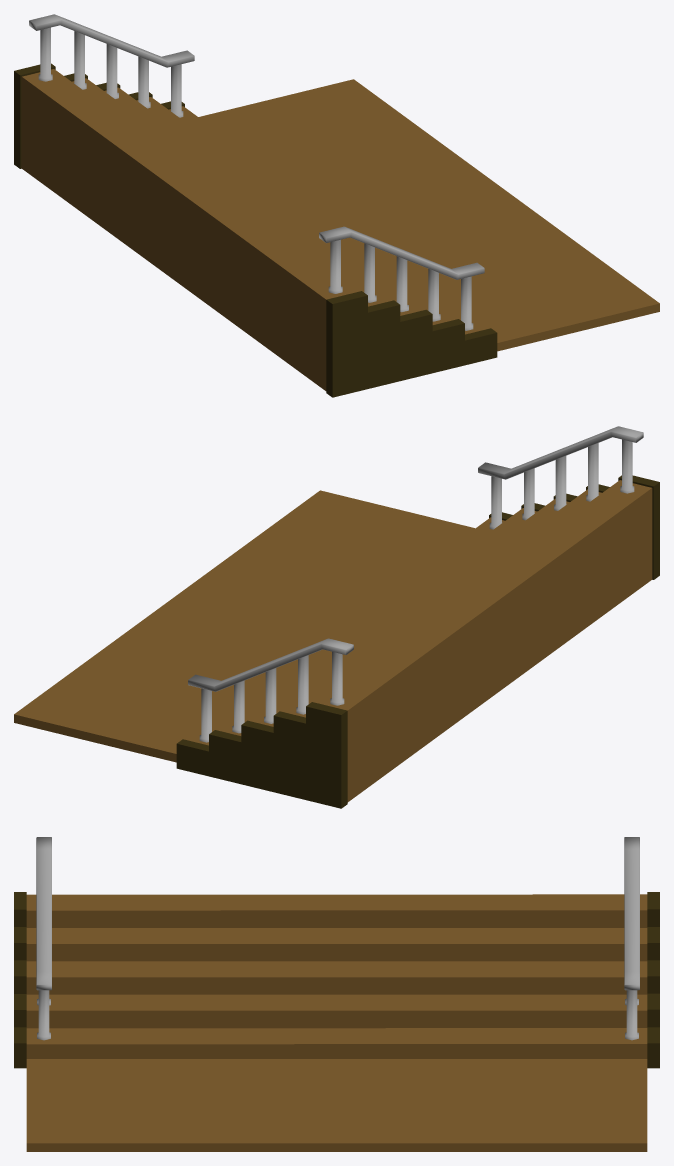
Rendered from Stair.fbx.
3 renders of one model, top to bottom at view 1: azimuth 30°, elevation 25°; view 2: azimuth 150°, elevation 25°; view 3: azimuth 270°, elevation 25°, orthographic.
Visible parts, largest first — view 1: StraightStair001; view 2: StraightStair001; view 3: StraightStair001.
Boxes of the visible parts, <box> form: StraightStair001: <box>14,14,659,397</box>; StraightStair001: <box>14,426,659,808</box>; StraightStair001: <box>14,837,659,1151</box>.
Bounding box in the file's own units: 223 × 95.86 × 368.
Materials: 1 (1 with a texture image).
